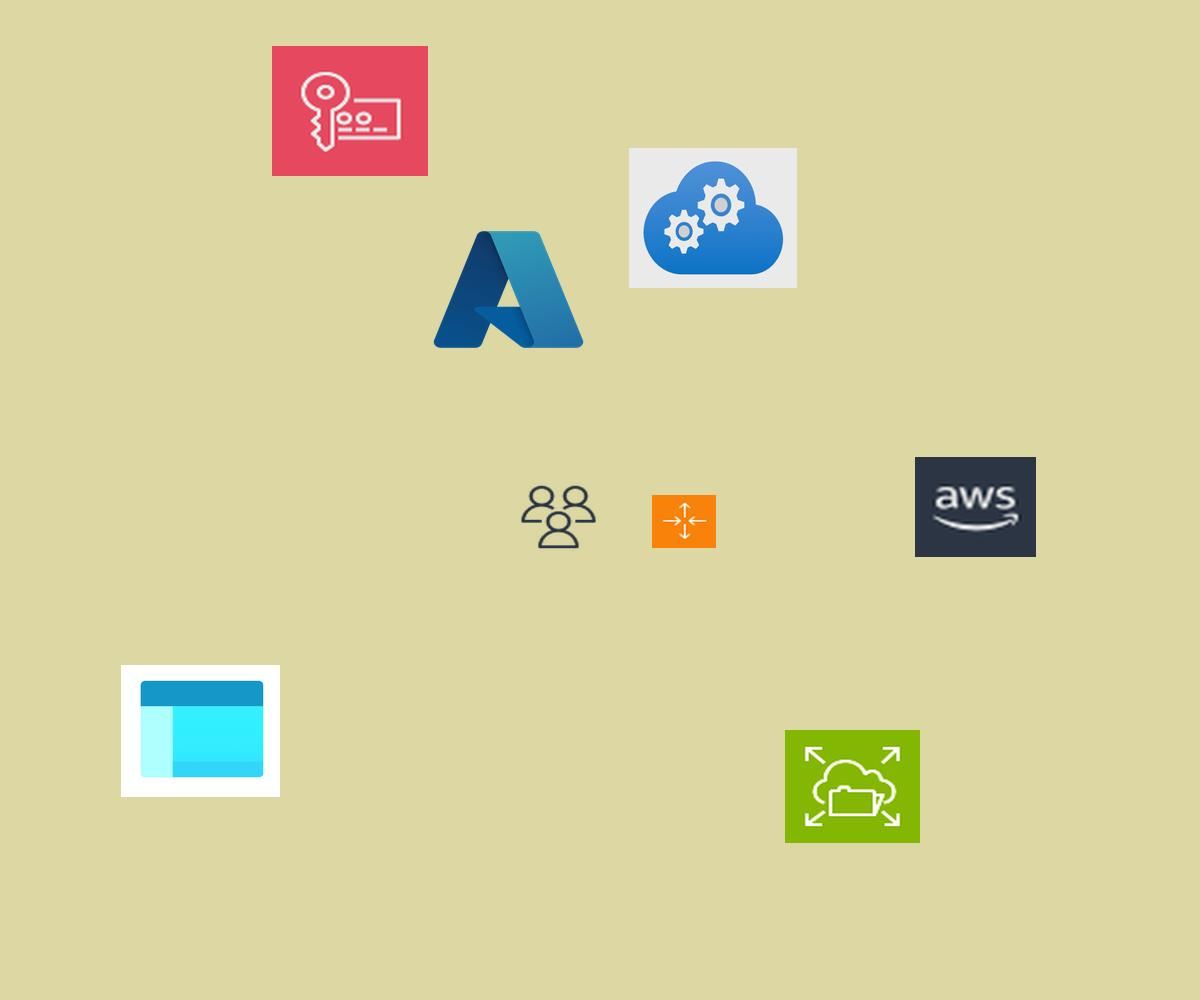AWS-Cloud-logo: (915, 457, 1036, 557)
AWS-EFS: (785, 730, 920, 843)
AWS-Key-Management-Service: (272, 46, 428, 176)
AWS-Res_Users: (518, 483, 599, 551)
AWS-Scaling-group: (652, 495, 716, 548)
Azure_cloud_services: (629, 148, 797, 288)
Azure_management-portal: (121, 665, 280, 797)
Azure_services: (427, 222, 590, 357)
